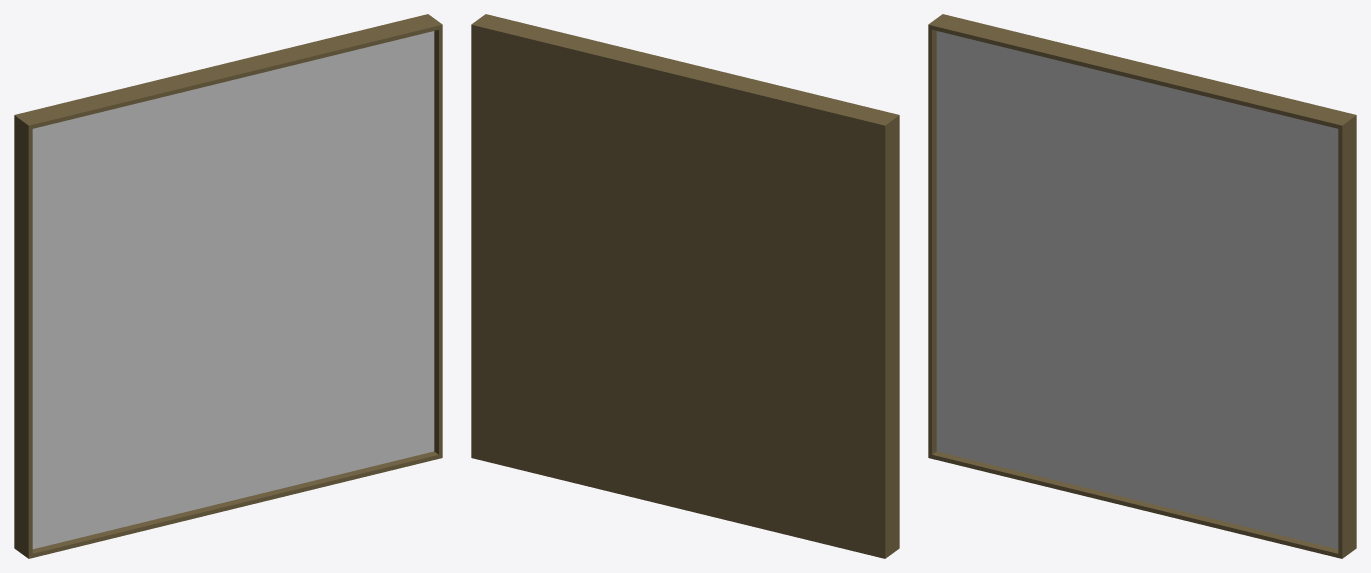
The model's file is bpy_test_obj.obj.
3 views of the same model, side by side, from view 1: azimuth 30°, elevation 25°; view 2: azimuth 150°, elevation 25°; view 3: azimuth 330°, elevation 25° (orthographic).
Visible parts, largest first — view 1: 0b0e6df6479ffd5c48f58de1330e7f2ab1248620_>__>_root_>_.001, 0b0e6df6479ffd5c48f58de1330e7f2ab1248620_>__>_root_>_; view 2: 0b0e6df6479ffd5c48f58de1330e7f2ab1248620_>__>_root_>_; view 3: 0b0e6df6479ffd5c48f58de1330e7f2ab1248620_>__>_root_>_.001, 0b0e6df6479ffd5c48f58de1330e7f2ab1248620_>__>_root_>_.
Part boxes in pixels (left/top/right/bottom): 0b0e6df6479ffd5c48f58de1330e7f2ab1248620_>__>_root_>_.001: left=32, top=31, right=434, bottom=549; 0b0e6df6479ffd5c48f58de1330e7f2ab1248620_>__>_root_>_: left=14, top=14, right=442, bottom=558; 0b0e6df6479ffd5c48f58de1330e7f2ab1248620_>__>_root_>_: left=471, top=14, right=899, bottom=558; 0b0e6df6479ffd5c48f58de1330e7f2ab1248620_>__>_root_>_.001: left=936, top=31, right=1338, bottom=549; 0b0e6df6479ffd5c48f58de1330e7f2ab1248620_>__>_root_>_: left=928, top=14, right=1356, bottom=558.
Bounding box in the file's own units: 1.04 × 1.04 × 0.0635.
